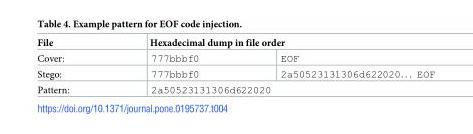table: (36, 37, 434, 95)
table column: (239, 37, 434, 95), (108, 37, 239, 95), (36, 37, 108, 95)
table column header: (36, 37, 434, 65)
table row: (36, 49, 434, 65), (36, 65, 434, 81), (36, 81, 434, 95), (36, 37, 434, 49)
table spanning cell: (108, 81, 434, 95), (108, 37, 434, 49), (36, 37, 108, 65)
